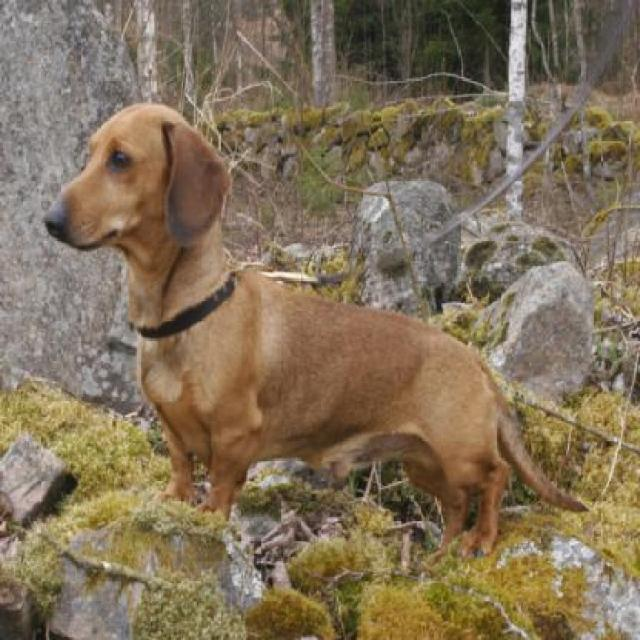Dog: (42, 97, 586, 568)
